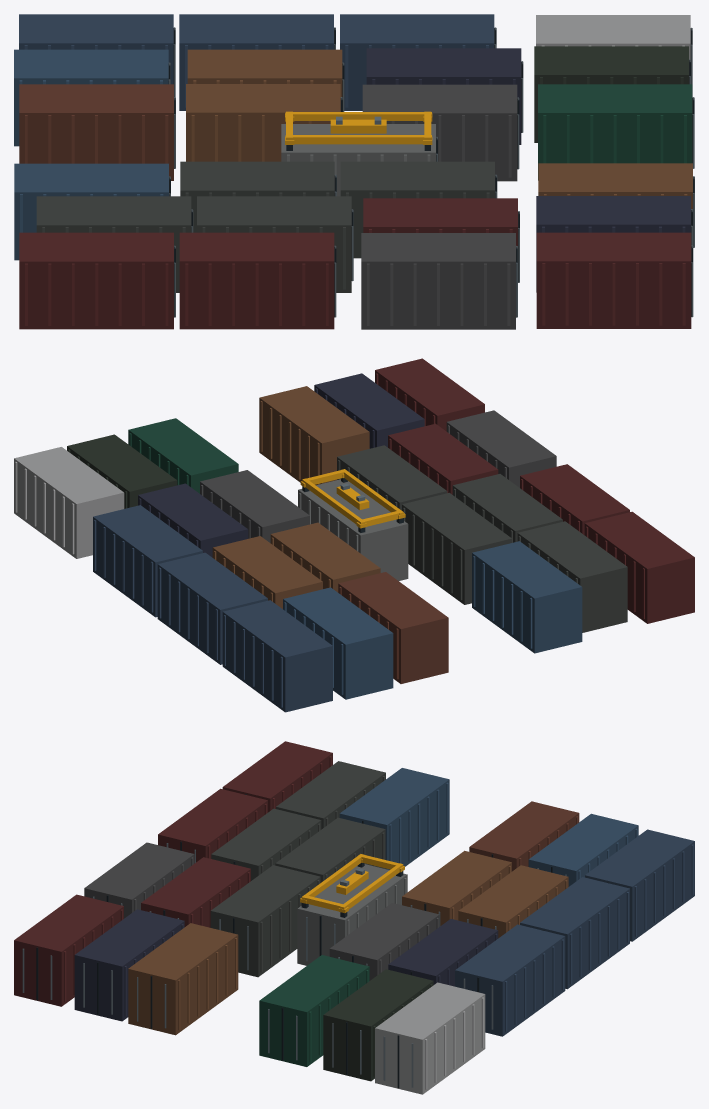
Rendered from containers-nw-se-01.glb.
3 views of the same model, one above another, from view 1: azimuth 30°, elevation 25°; view 2: azimuth 150°, elevation 25°; view 3: azimuth 270°, elevation 25° (orthographic). The views are drawn at different scales.
Visible parts, largest first — view 1: containers-nw-se-01; view 2: containers-nw-se-01; view 3: containers-nw-se-01.
Part boxes in pixels (bbox=[...]): containers-nw-se-01: bbox=[14, 14, 694, 329]; containers-nw-se-01: bbox=[14, 358, 694, 712]; containers-nw-se-01: bbox=[14, 741, 694, 1094].
Size of the model in its own units: 74.56 by 8.25 by 71.87.
